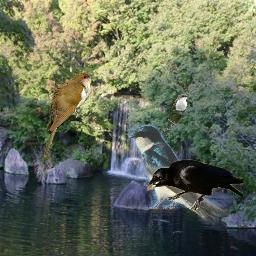Crow: (146, 159, 243, 210)
Cuckoo: (43, 71, 98, 163), (162, 93, 189, 136)
Swallow: (128, 125, 230, 224)
